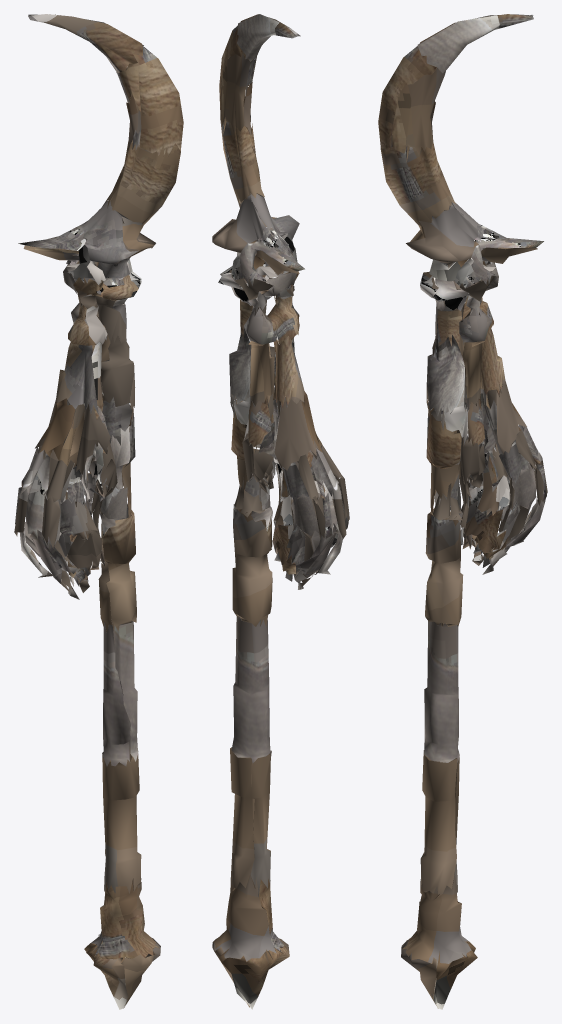
The model's file is Weapon_T4.fbx.
The picture shows the model from 3 angles, left to right: view 1: azimuth 90°, elevation 25°; view 2: azimuth 210°, elevation 25°; view 3: azimuth 270°, elevation 25°; orthographic projection.
Visible parts, largest first — view 1: Vanguard_Weapon; view 2: Vanguard_Weapon; view 3: Vanguard_Weapon.
Boxes of the visible parts, bbox=[...] form: Vanguard_Weapon: bbox=[14, 14, 183, 1009]; Vanguard_Weapon: bbox=[212, 14, 349, 1009]; Vanguard_Weapon: bbox=[378, 14, 547, 1009].
Bounding box in the file's own units: 0.1117 × 0.9987 × 0.1541.
Materials: 1 (1 with a texture image).
